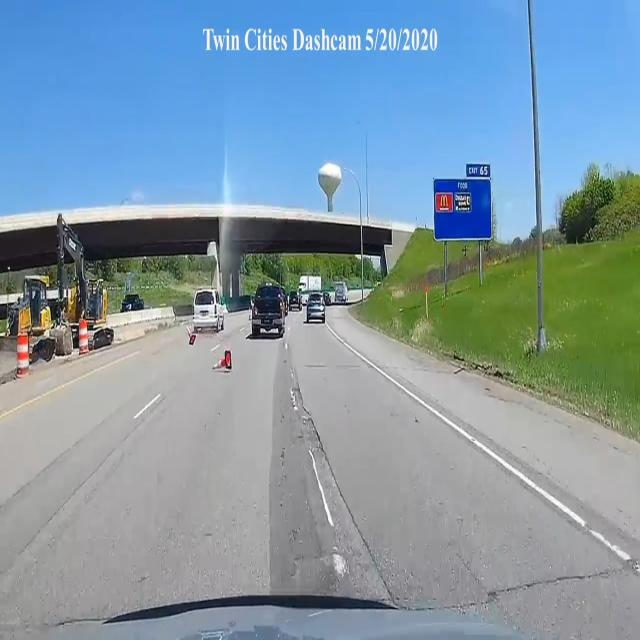cone: (214, 350, 235, 372), (185, 325, 196, 347)
